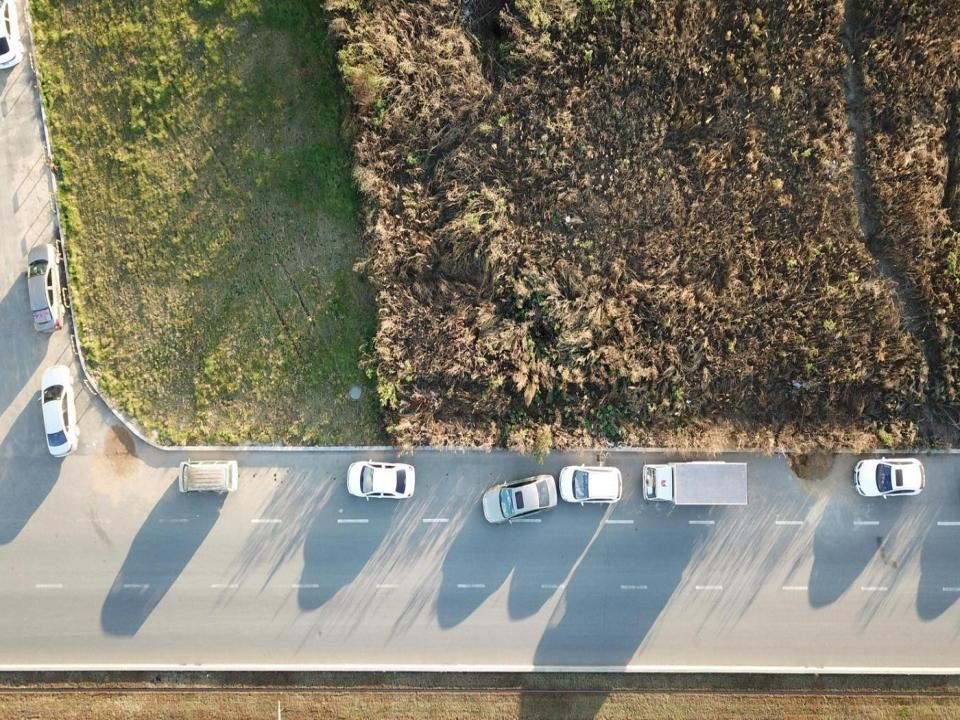car: (483, 474, 555, 526), (27, 241, 64, 333), (40, 364, 77, 455), (854, 458, 925, 500), (346, 458, 417, 499), (558, 465, 624, 504), (0, 0, 25, 68)
truck: (643, 461, 750, 508)
van: (175, 461, 238, 492)
